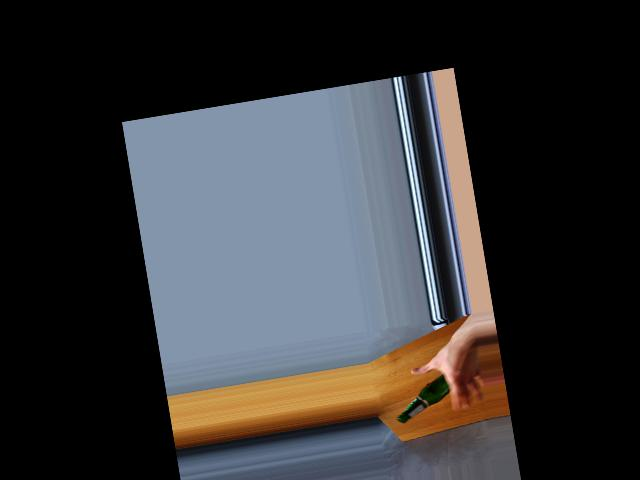beer: (391, 373, 453, 423)
